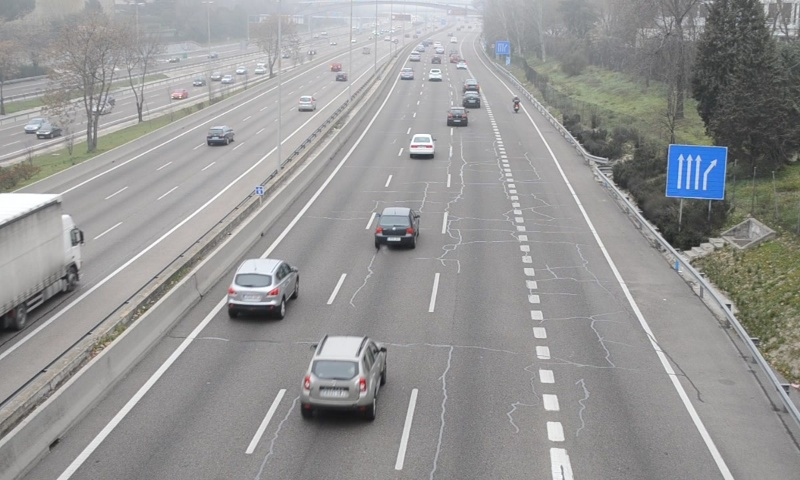car: (300, 336, 386, 410), (228, 259, 300, 308), (374, 207, 419, 246), (409, 132, 435, 156), (446, 106, 468, 126), (463, 91, 482, 107), (464, 78, 481, 92)
motorcycle: (512, 96, 521, 114)
